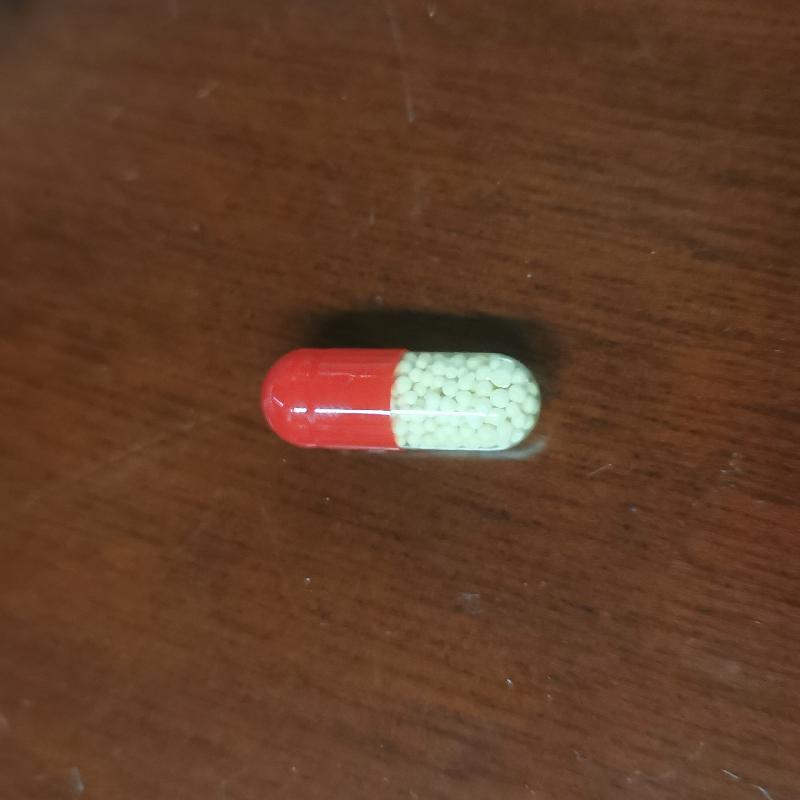pills: (255, 339, 549, 468)
